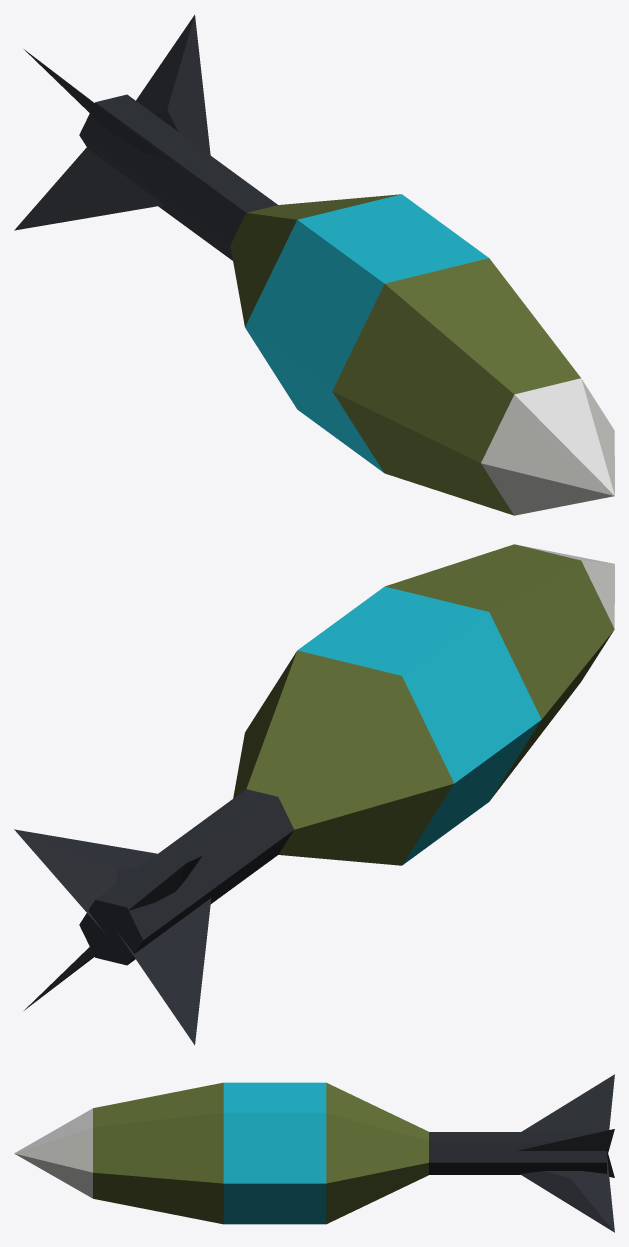
The model's file is proj_arty.glb.
The picture shows the model from 3 angles, top to bottom: view 1: azimuth 30°, elevation 25°; view 2: azimuth 150°, elevation 25°; view 3: azimuth 270°, elevation 25°; orthographic projection. The views are drawn at different scales.
Visible parts, largest first — view 1: proj_arty; view 2: proj_arty; view 3: proj_arty.
Boxes of the visible parts, x1,y1,x2,y2 form: proj_arty: (14, 14, 614, 515); proj_arty: (14, 544, 614, 1045); proj_arty: (14, 1074, 614, 1232).
Size of the model in its own units: 0.36 by 0.3118 by 1.52.
